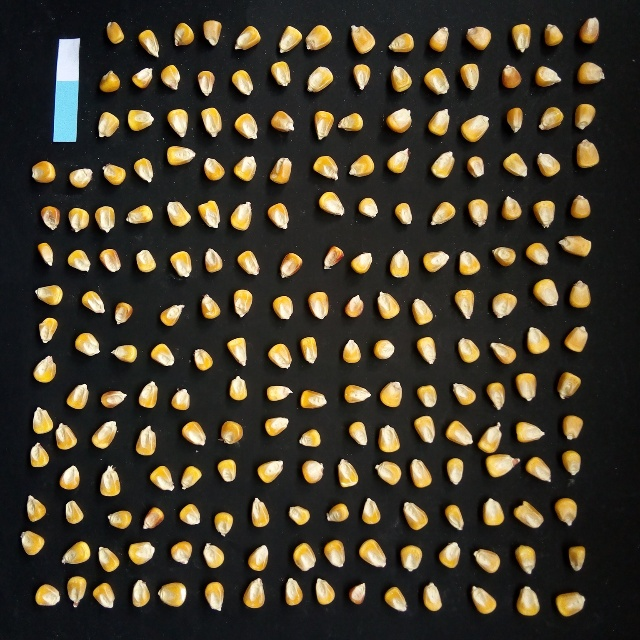escala: (54, 38, 79, 142)
maiz: (456, 110, 494, 145), (399, 495, 432, 533), (352, 537, 390, 570), (507, 500, 546, 531), (152, 579, 190, 610), (553, 366, 583, 405), (527, 276, 562, 309), (553, 589, 590, 620), (550, 494, 581, 530), (511, 583, 542, 619), (488, 287, 521, 320), (304, 63, 336, 97), (89, 416, 121, 450), (346, 22, 378, 56), (572, 136, 604, 170), (564, 275, 595, 310), (561, 323, 594, 355), (467, 583, 499, 616), (289, 539, 320, 573), (411, 334, 442, 368), (523, 452, 554, 486), (124, 539, 159, 569), (574, 58, 609, 88), (510, 542, 540, 577), (418, 579, 448, 614), (96, 463, 125, 499), (482, 453, 523, 478), (383, 144, 415, 176), (386, 61, 417, 94), (395, 542, 426, 575), (130, 423, 160, 457), (224, 334, 252, 370), (530, 196, 558, 232), (555, 233, 595, 258), (507, 19, 534, 56), (452, 286, 479, 323), (232, 23, 264, 54), (28, 354, 60, 385), (422, 66, 453, 98), (534, 104, 566, 135), (428, 149, 458, 182), (372, 288, 402, 321), (442, 418, 475, 448), (373, 421, 402, 455), (476, 419, 505, 453), (469, 547, 503, 576), (198, 105, 226, 140), (200, 579, 228, 614), (240, 574, 268, 609), (485, 339, 520, 367), (481, 378, 509, 413), (305, 287, 332, 323), (63, 574, 90, 610), (481, 493, 508, 529), (317, 189, 348, 220), (264, 341, 295, 372), (178, 417, 209, 448), (331, 458, 362, 489), (275, 250, 307, 280), (145, 464, 177, 494), (376, 379, 406, 411), (305, 21, 334, 54), (164, 107, 193, 140), (264, 200, 293, 233), (385, 104, 414, 137), (384, 246, 413, 279), (370, 460, 403, 489), (32, 282, 66, 310), (424, 106, 452, 140), (280, 574, 307, 609), (232, 110, 262, 141), (157, 299, 188, 329), (433, 540, 464, 570), (227, 66, 256, 98), (570, 100, 599, 132), (135, 27, 163, 60), (276, 23, 304, 56), (91, 202, 119, 235), (60, 539, 93, 567), (31, 581, 64, 609), (347, 61, 375, 94), (419, 247, 452, 275), (514, 370, 542, 403), (464, 195, 491, 229), (248, 495, 274, 530), (523, 324, 553, 354), (215, 418, 246, 447), (56, 462, 85, 493), (320, 538, 349, 569), (500, 150, 531, 179), (452, 335, 483, 364), (439, 503, 468, 534), (231, 153, 259, 185), (163, 198, 191, 230), (497, 61, 525, 93), (406, 456, 434, 488), (229, 199, 256, 232), (269, 291, 296, 324), (168, 536, 195, 569), (456, 61, 483, 94), (311, 108, 337, 142), (196, 198, 222, 232), (513, 420, 547, 446), (444, 454, 469, 489), (78, 287, 108, 316), (147, 340, 177, 369), (62, 381, 91, 411), (18, 529, 48, 558), (534, 150, 564, 179), (428, 199, 458, 228), (346, 248, 376, 277), (380, 584, 409, 614), (311, 154, 342, 182), (71, 330, 102, 358), (346, 152, 377, 180), (559, 446, 587, 477), (126, 106, 158, 133), (53, 419, 80, 451), (21, 492, 48, 524), (426, 24, 453, 56), (464, 25, 496, 52), (411, 413, 438, 445), (297, 385, 330, 411), (95, 542, 121, 575), (137, 376, 160, 413), (358, 493, 383, 527), (24, 441, 53, 470), (211, 456, 240, 485), (199, 541, 228, 570), (254, 457, 284, 485), (58, 498, 88, 526), (128, 577, 152, 612), (455, 248, 483, 278), (408, 296, 436, 326), (65, 204, 92, 235), (167, 248, 194, 279), (311, 576, 338, 607), (577, 15, 604, 46), (336, 109, 367, 136), (269, 155, 295, 187), (107, 339, 139, 365), (531, 63, 563, 89), (247, 540, 272, 573), (385, 29, 418, 54), (564, 542, 589, 575), (163, 144, 197, 168), (267, 60, 295, 89), (197, 292, 225, 321), (225, 374, 253, 403), (558, 412, 586, 441), (267, 107, 297, 134), (200, 154, 227, 184), (96, 245, 123, 275), (90, 581, 117, 611), (521, 240, 551, 267), (449, 381, 479, 408), (95, 109, 121, 140), (36, 203, 62, 234), (236, 246, 262, 277), (230, 288, 256, 319), (293, 425, 325, 450), (175, 501, 203, 529), (208, 510, 236, 538), (299, 458, 326, 487), (498, 193, 525, 222), (28, 159, 58, 185), (130, 155, 156, 185), (124, 201, 154, 227), (179, 462, 205, 492), (354, 192, 380, 222), (342, 291, 368, 321), (159, 62, 184, 93), (193, 68, 218, 99), (200, 16, 224, 48), (503, 105, 527, 137), (487, 245, 519, 269), (341, 382, 374, 405), (34, 316, 62, 343), (189, 346, 217, 373), (97, 387, 131, 409), (29, 404, 53, 435), (345, 579, 369, 610), (261, 415, 293, 438), (66, 247, 93, 274), (568, 193, 595, 220), (342, 419, 369, 446), (412, 381, 438, 409), (99, 162, 128, 187), (111, 297, 136, 326), (296, 335, 319, 366), (132, 248, 159, 274), (166, 385, 192, 412), (140, 505, 166, 532), (370, 337, 397, 363), (321, 244, 346, 272), (391, 199, 415, 228), (340, 337, 364, 366), (262, 381, 293, 403), (172, 21, 196, 49), (322, 501, 352, 523), (541, 21, 565, 48), (464, 154, 488, 181), (67, 166, 95, 189), (286, 504, 314, 527), (34, 240, 56, 269), (105, 509, 135, 530), (103, 19, 127, 45), (98, 68, 122, 94), (130, 66, 156, 90), (201, 247, 224, 273)
